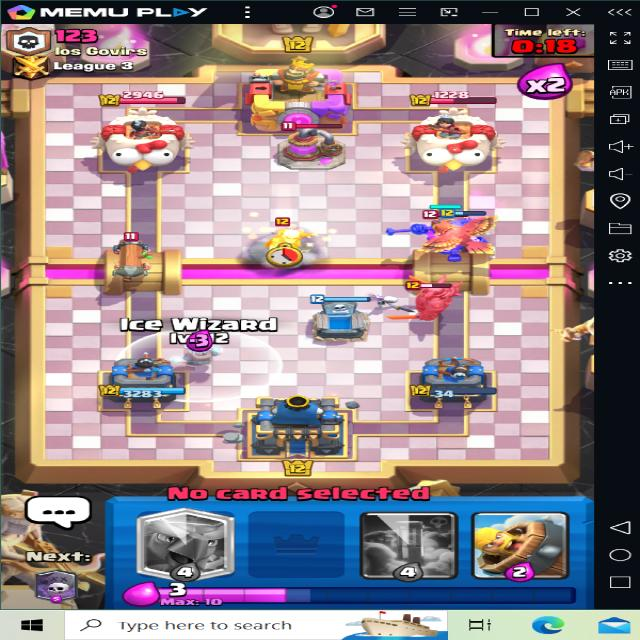battle-ram: (107, 230, 149, 287)
magic-archer: (259, 218, 315, 268)
pekka: (400, 278, 470, 328)
skeleton-king: (407, 208, 481, 268)
